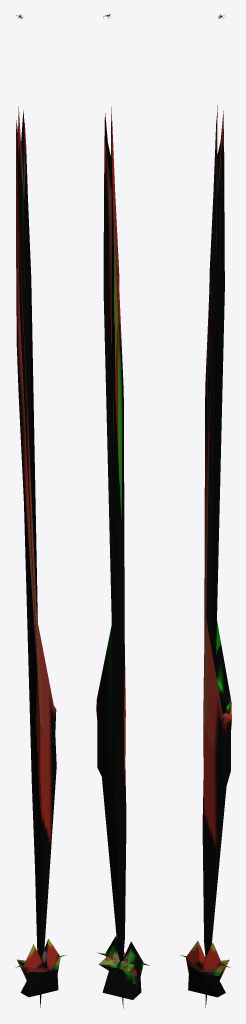
The picture shows the model from 3 angles, left to right: view 1: azimuth 30°, elevation 25°; view 2: azimuth 150°, elevation 25°; view 3: azimuth 330°, elevation 25°; orthographic projection. The views are drawn at different scales.
Parts seen in each view (by area): view 1: Cube.001; view 2: Cube.001; view 3: Cube.001.
Part boxes in pixels (box(x1,y1,x2,y2)): Cube.001: box(15, 14, 65, 1007); Cube.001: box(96, 14, 149, 1008); Cube.001: box(180, 14, 231, 1007).
Bounding box in the file's own units: 8.07 × 143 × 6.69.
Materials: 1 (1 with a texture image).
